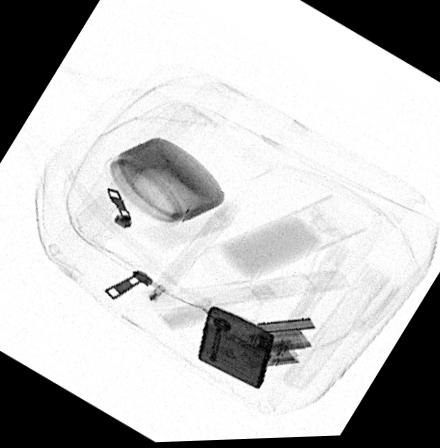Lighter: (197, 306, 274, 390)
